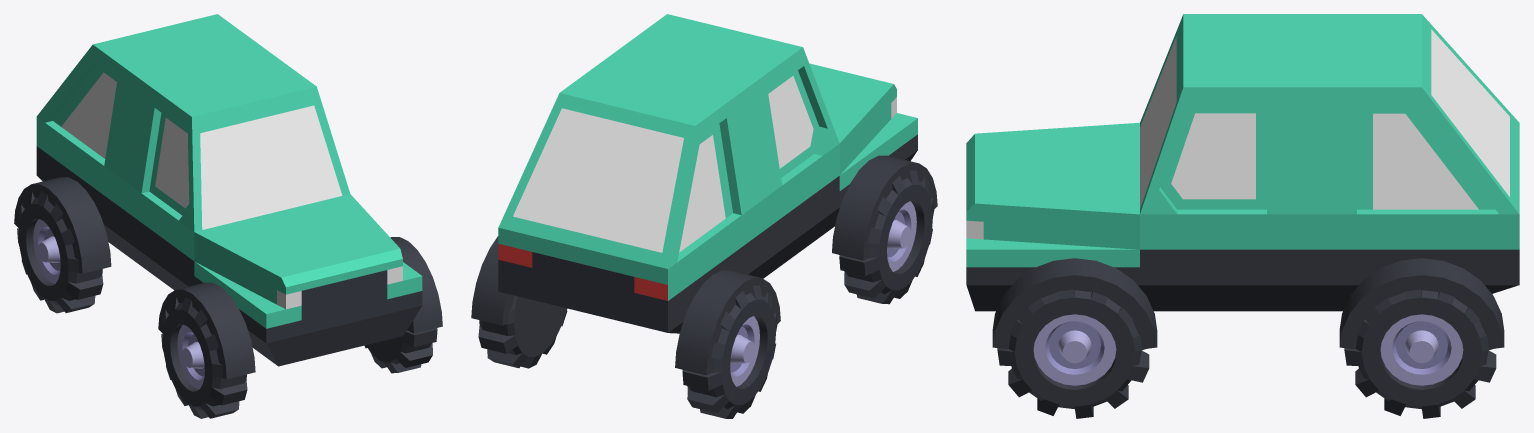
The model's file is Basic_car.fbx.
3 views of the same model, side by side, from view 1: azimuth 30°, elevation 25°; view 2: azimuth 150°, elevation 25°; view 3: azimuth 270°, elevation 25° (orthographic). The views are drawn at different scales.
Parts seen in each view (by area): view 1: body_topVan, body_frontTruck, wheel_ridges (×3), wheel_coverStandard (×3), body_topBackStandard, body_standard, body_backSolid; view 2: body_topBackStandard, body_topVan, wheel_ridges (×3), body_backSolid, wheel_coverStandard (×3), body_standard, body_frontTruck; view 3: body_topVan, wheel_ridges (×2), body_topBackStandard, body_frontTruck, body_standard, wheel_coverStandard (×2), body_backSolid.
Boxes of the visible parts, box(x1,y1,x2,y2) form: body_topVan: box(104, 34, 350, 231); body_frontTruck: box(194, 194, 422, 366); wheel_ridges (×3): box(17, 191, 437, 418); wheel_coverStandard (×3): box(14, 177, 442, 379); body_topBackStandard: box(37, 14, 244, 158); body_standard: box(104, 166, 194, 290); body_backSolid: box(36, 117, 119, 249); body_topBackStandard: box(498, 71, 732, 268); body_topVan: box(589, 14, 839, 215); wheel_ridges (×3): box(478, 170, 934, 418); body_backSolid: box(498, 213, 741, 333); wheel_coverStandard (×3): box(471, 155, 937, 375); body_standard: box(741, 144, 839, 278); body_frontTruck: box(809, 63, 917, 234); body_topVan: box(1140, 14, 1356, 214); wheel_ridges (×2): box(997, 289, 1496, 418); body_topBackStandard: box(1357, 14, 1519, 214); body_frontTruck: box(966, 122, 1139, 311); body_standard: box(1140, 209, 1356, 311); wheel_coverStandard (×2): box(992, 258, 1504, 349); body_backSolid: box(1357, 209, 1519, 293).
Size of the model in its own units: 14.33 by 15.58 by 25.5.
